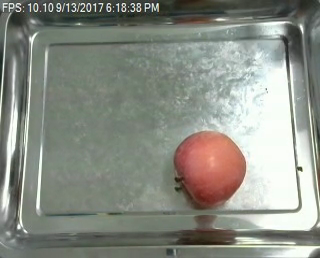Apple: (172, 130, 245, 207)
